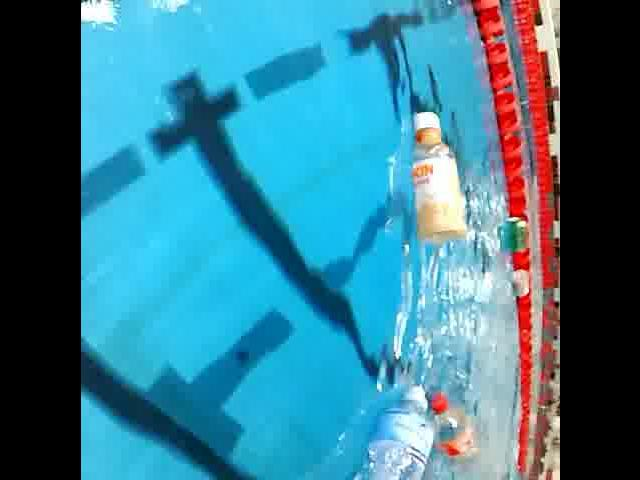Bottle: (298, 371, 440, 480), (396, 107, 471, 253), (427, 388, 482, 468), (506, 261, 530, 301)
Can: (499, 210, 532, 260)
